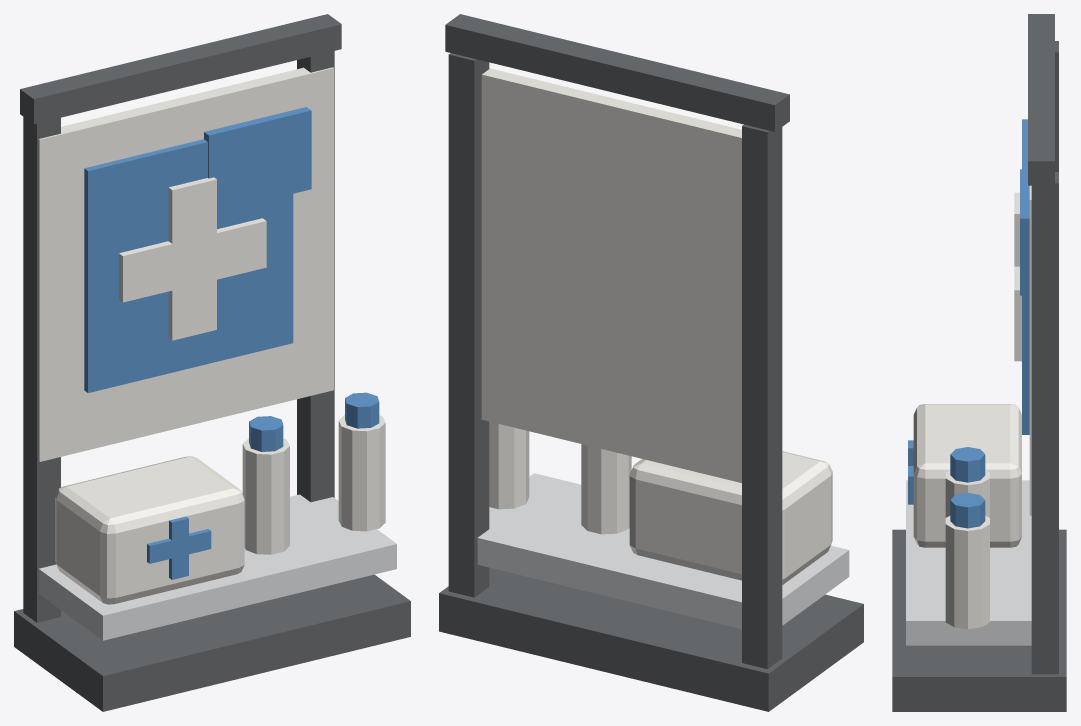
File: demolition-and-site-clearance-demolition-and-site-clea-516b35f7__35710.glb
3 views of the same model, side by side, from view 1: azimuth 30°, elevation 25°; view 2: azimuth 150°, elevation 25°; view 3: azimuth 270°, elevation 25° (orthographic). The views are drawn at different scales.
Visible parts, largest first — view 1: demolition-and-site-clearance-first-aid-station; view 2: demolition-and-site-clearance-first-aid-station; view 3: demolition-and-site-clearance-first-aid-station.
Boxes of the visible parts, <box> form: demolition-and-site-clearance-first-aid-station: <box>14,14,410,711</box>; demolition-and-site-clearance-first-aid-station: <box>439,14,863,711</box>; demolition-and-site-clearance-first-aid-station: <box>892,14,1066,711</box>.
Bounding box in the file's own units: 0.93 × 1.57 × 0.4501.
